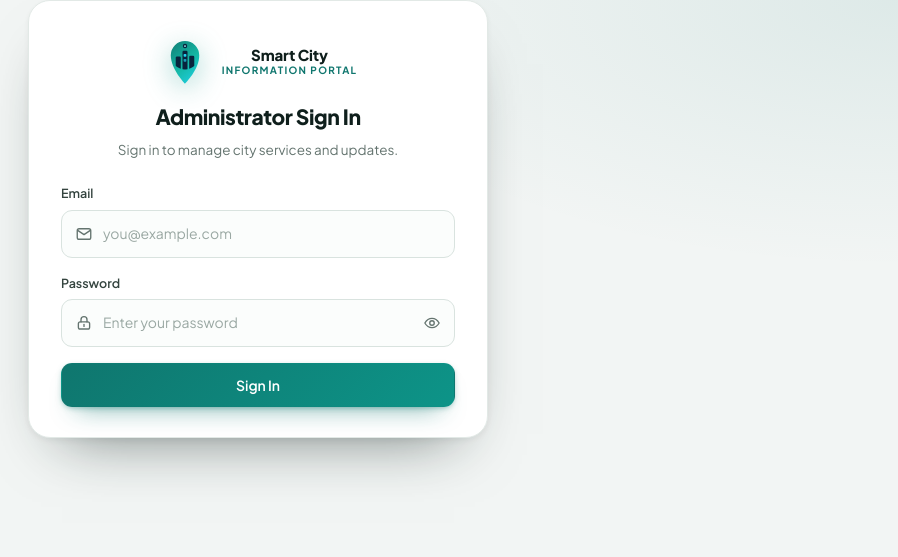
Scenario: AdminLogin › shows an error message when sign in fails
Type "admin@kombolcha.gov.et" into the field labelled "Email". click: (258, 234)
box: [62,211,454,256]
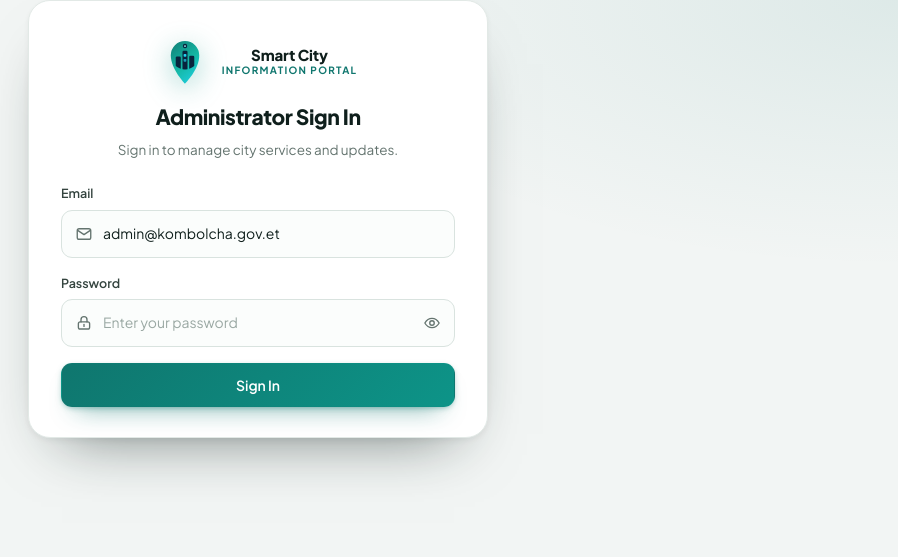
Type "secret" into the password field labelled "Password". click: (258, 323)
box: [62,300,454,346]
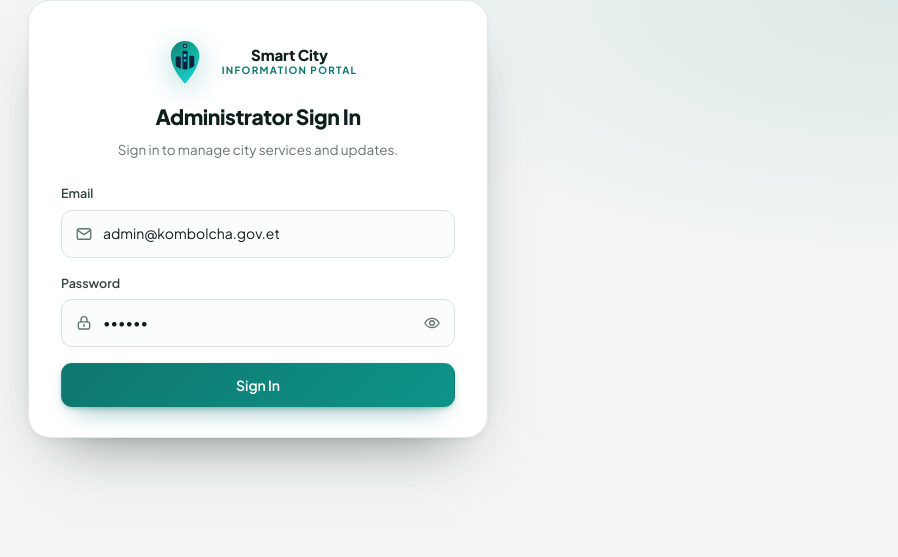
Click the button "Sign In". click: (258, 385)
box: [61,363,455,407]
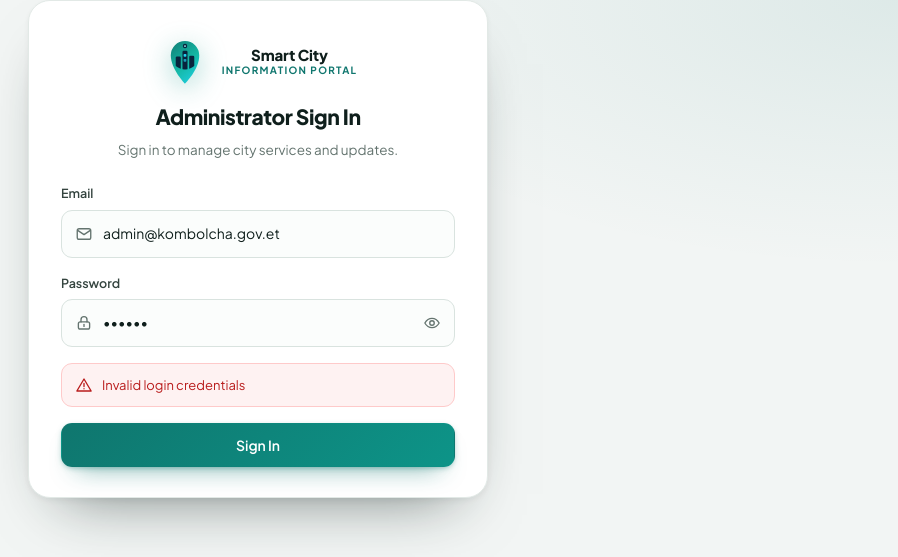
Now the message reads "Invalid login credentials", box [102,377,246,393]
